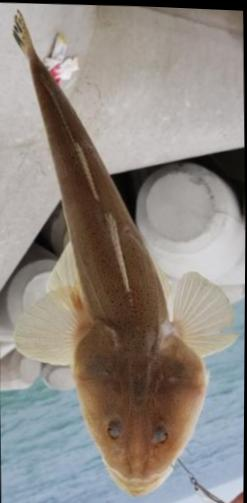fish: (13, 8, 238, 495)
